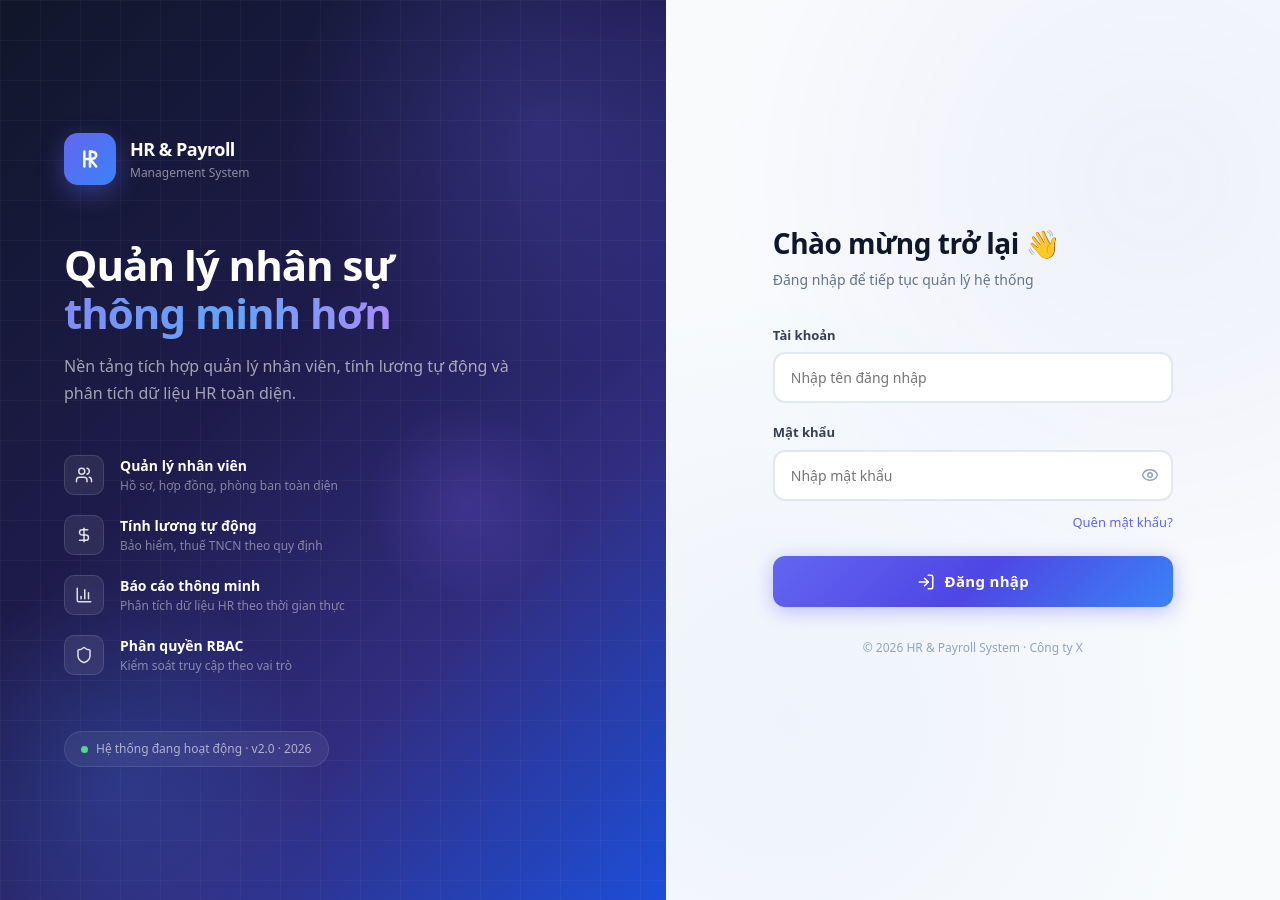
Test: Form validation › chỉ nhập username, bỏ trống password → hiện lỗi
In the field with placeholder "Nhập tên đăng nhập": (973, 378) [773,352,1173,403], type "admin"
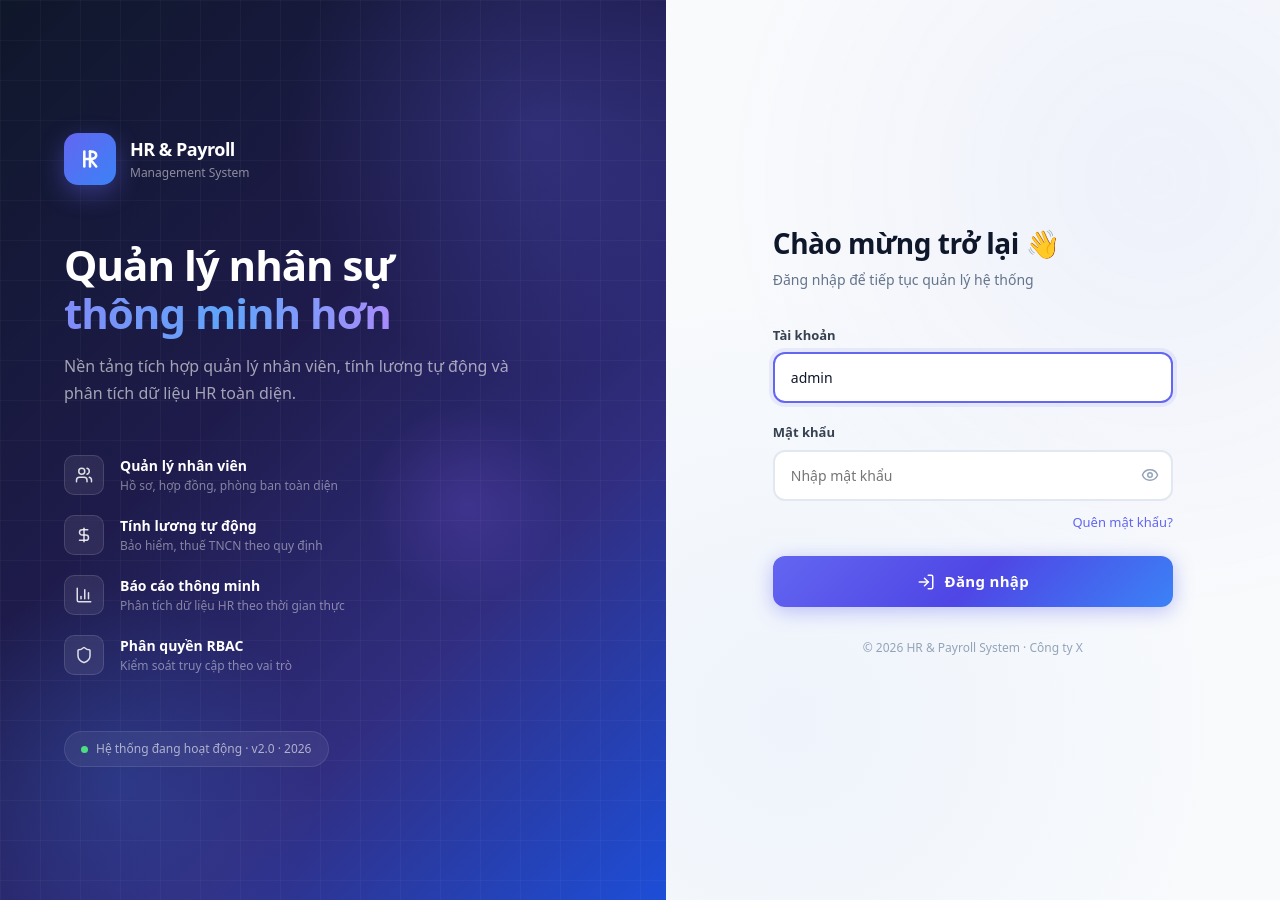
Click the button "Đăng nhập": (973, 582) [773,556,1173,607]
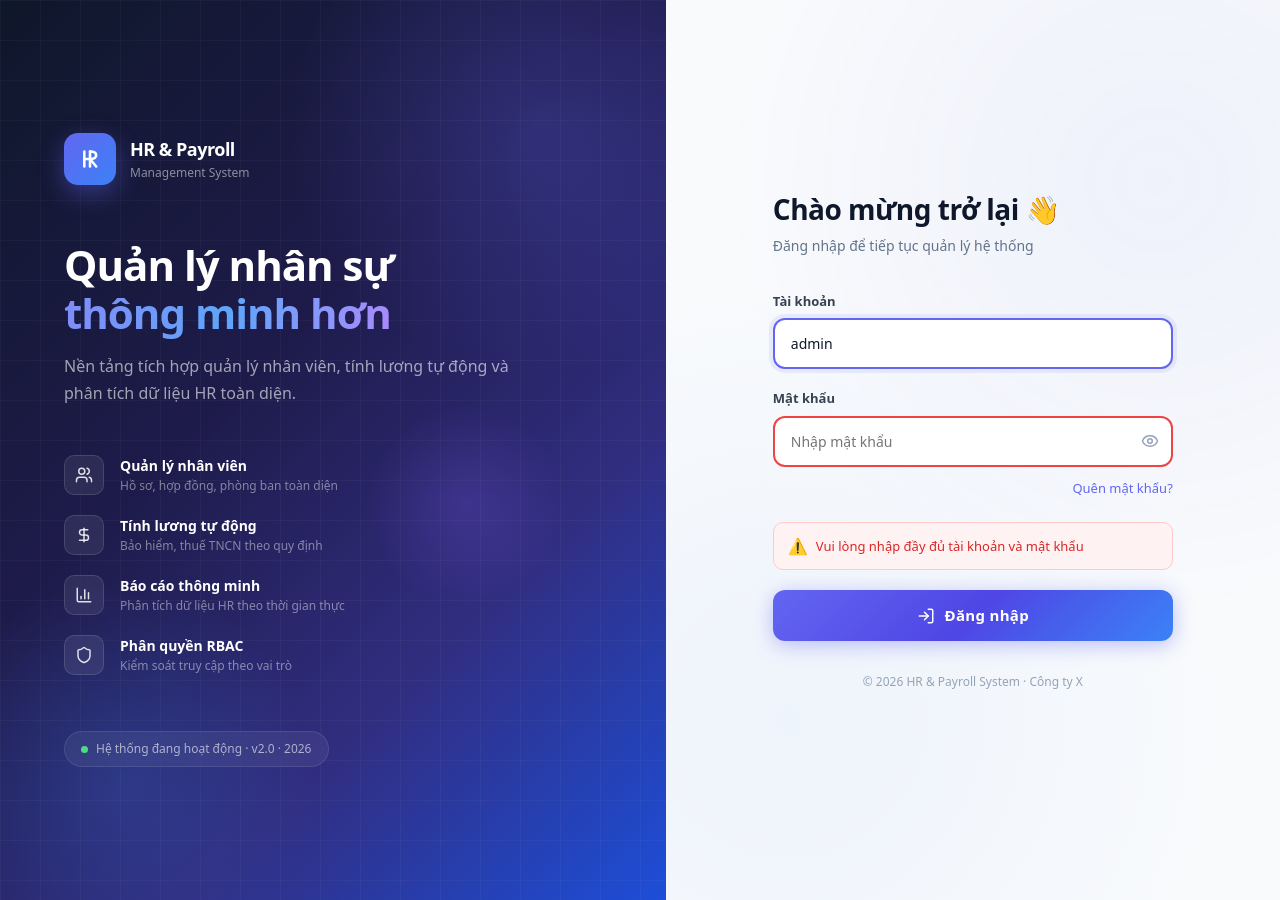
Result: the text "⚠️ Vui lòng nhập đầy đủ tài khoản và mật khẩu" is shown at [773,522,1173,570]
